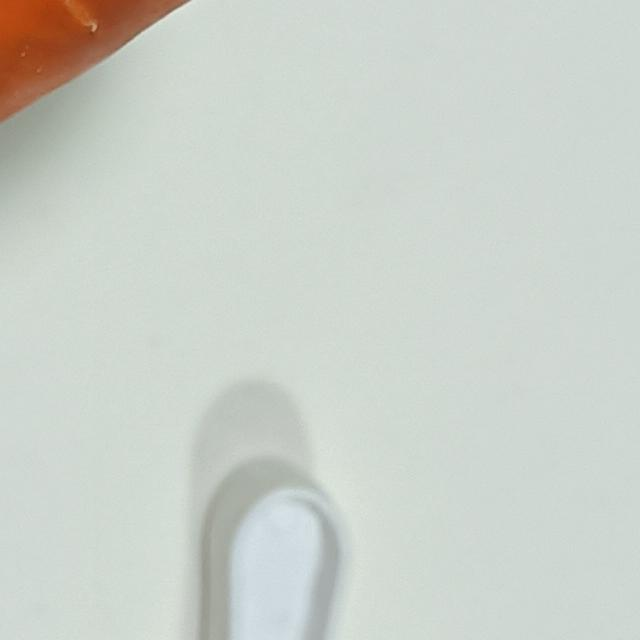carrot: (1, 1, 384, 640)
